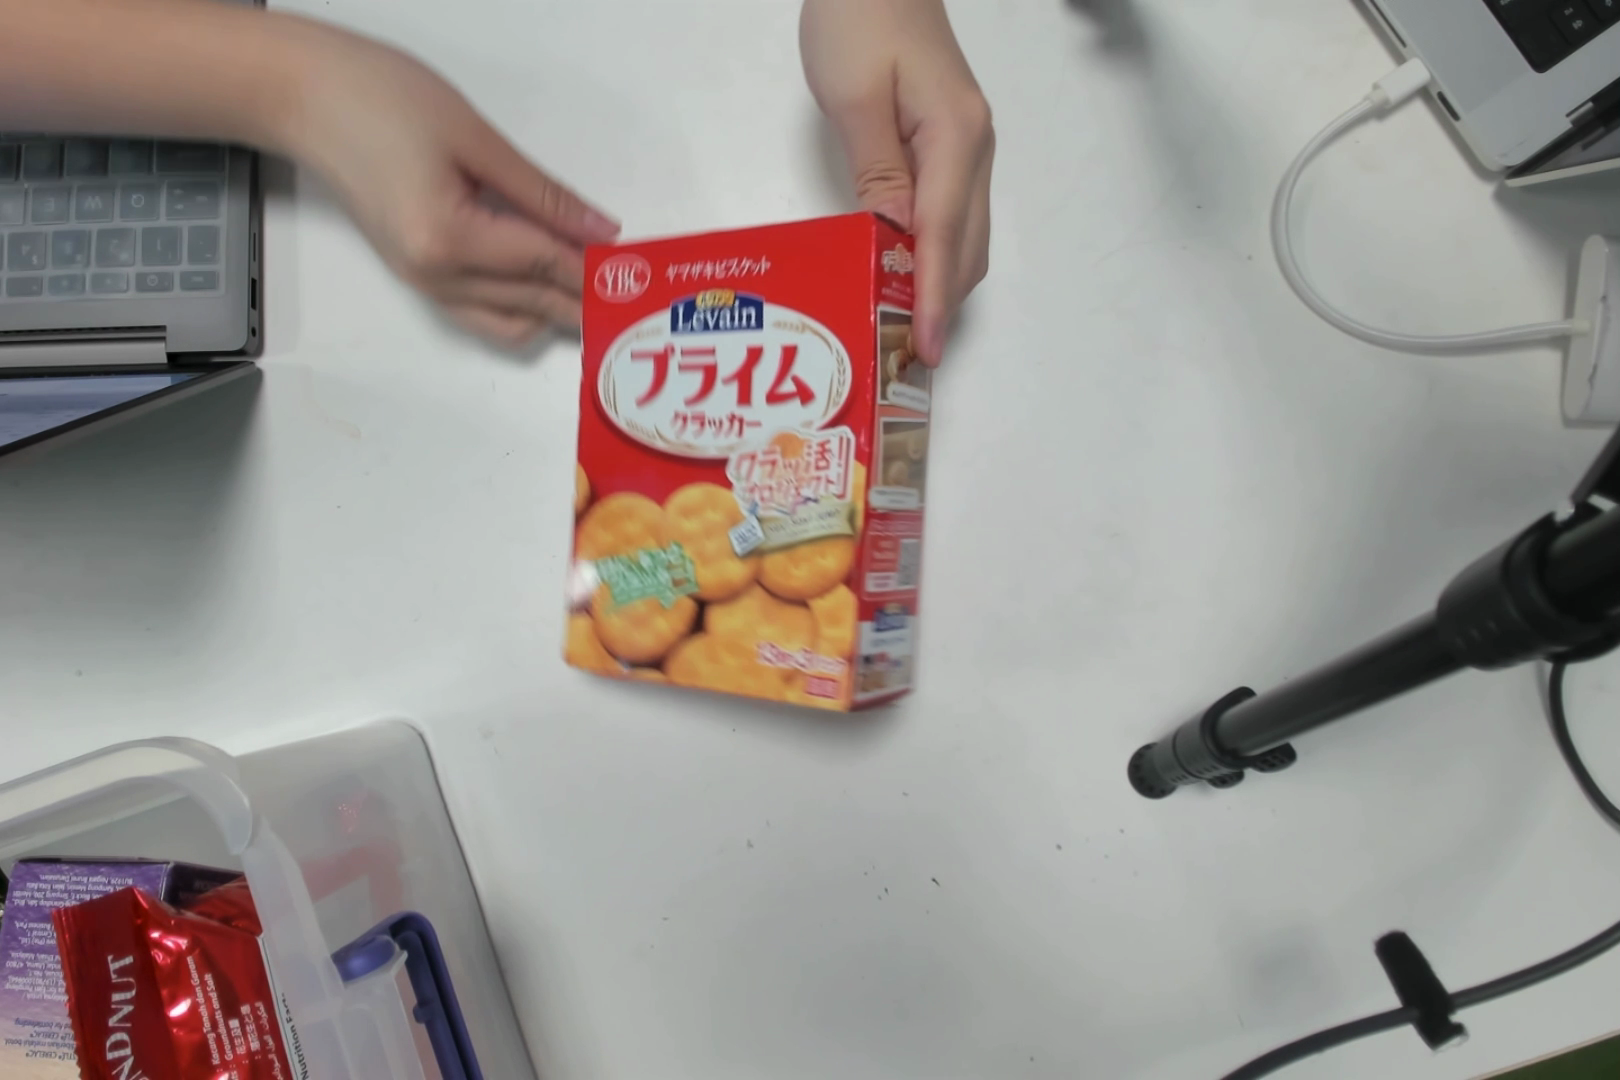c: (581, 253, 920, 704)
